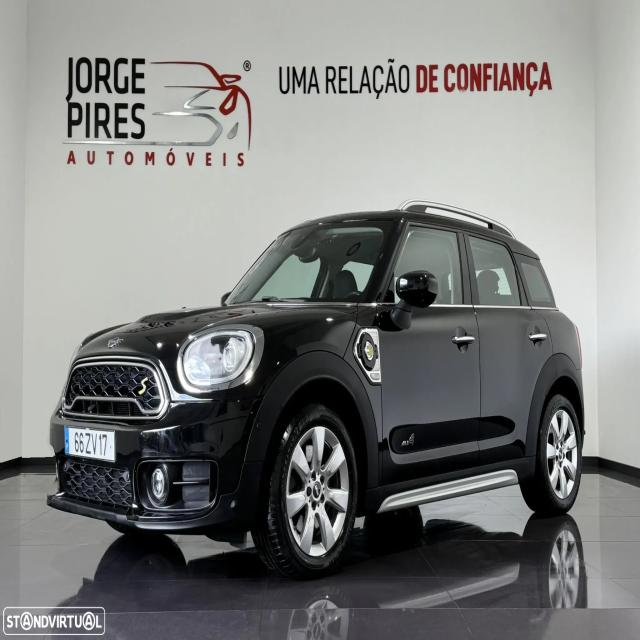portuguese-license-plates: (65, 426, 115, 461)
